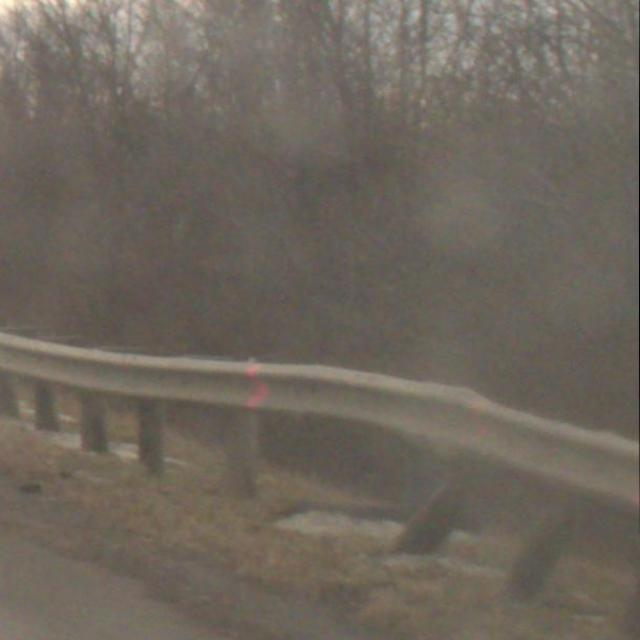Guard rail: (0, 319, 637, 610)
